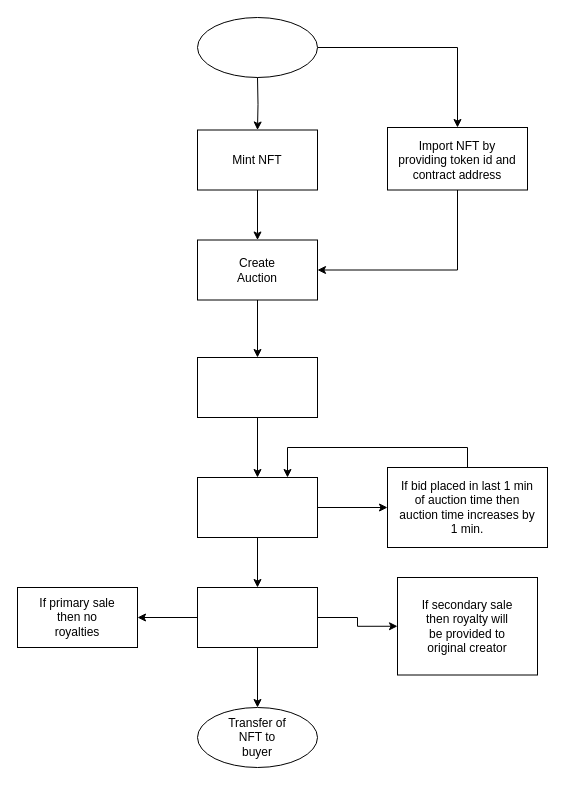
The diagram is 565 pixels wide and 785 high, and some of its shapes have lost their labels. The centre of each missing label's shape, as x and y in pixels:
"Approve Auction by admin" goes at point 257,387.
"Finalize auction if aution time ended" goes at point 257,617.
"Place Bids" goes at point 257,507.
"User" goes at point 257,47.
